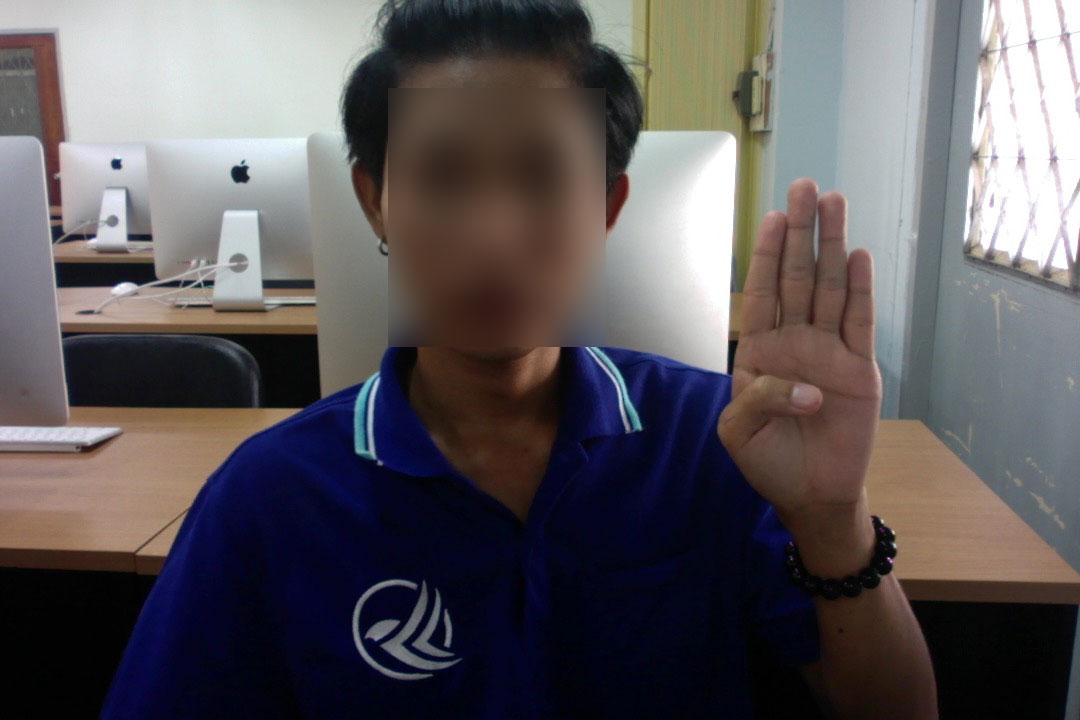bor: (712, 175, 886, 522)
